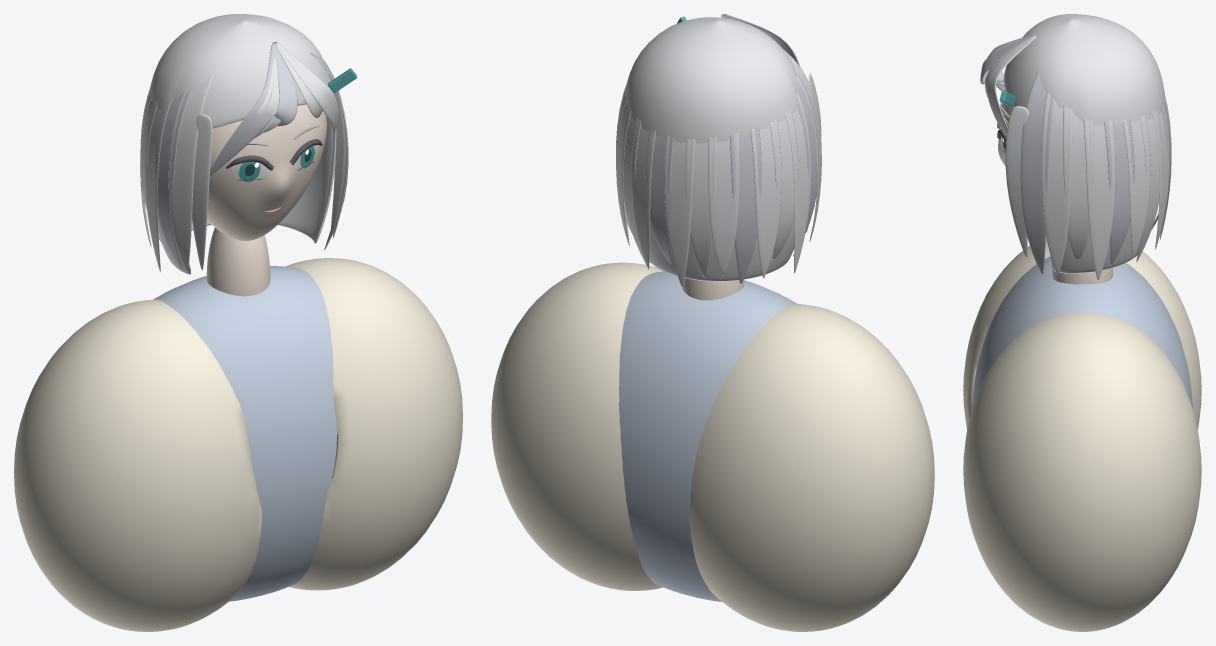
The model's file is siro-style.glb.
The picture shows the model from 3 angles, left to right: view 1: azimuth 30°, elevation 25°; view 2: azimuth 150°, elevation 25°; view 3: azimuth 270°, elevation 25°; orthographic projection. The views are drawn at different scales.
Parts seen in each view (by area): view 1: Cardigan, Cardigan.001, Torso, HairCap, Head, BobLock17, Neck, BobLock16, SideLock, BobLock15, Fringe0, Fringe5 (+4 smaller); view 2: Cardigan, Cardigan.001, Torso, HairCap, BobLock11, BobLock13, BobLock09, BobLock12, BobLock10, BobLock15, BobLock14, BobLock07 (+6 smaller); view 3: Cardigan.001, HairCap, Torso, Cardigan, BobLock00, BobLock01, BobLock03, BobLock02, BobLock04, BobLock05, SideLock.001, BobLock06 (+5 smaller).
Boxes of the visible parts, x1,y1,x2,y2 form: Cardigan: (14,299,261,631); Cardigan.001: (285,258,462,590); Torso: (153,266,336,601); HairCap: (149,14,336,274); Head: (207,104,326,240); BobLock17: (168,75,213,271); Neck: (206,227,270,296); BobLock16: (154,90,191,269); SideLock: (192,114,212,270); BobLock15: (144,98,172,272); Fringe0: (209,42,278,175); Fringe5: (275,42,338,135); Cardigan: (689,303,934,631); Cardigan.001: (491,262,662,590); Torso: (618,271,797,601); HairCap: (624,17,798,281); BobLock11: (708,133,739,275); BobLock13: (750,119,781,278); BobLock09: (664,135,695,287); BobLock12: (729,127,761,284); BobLock10: (685,136,717,277); BobLock15: (785,91,811,273); BobLock14: (769,109,798,258); BobLock07: (631,117,655,269); Cardigan.001: (963,313,1201,631); HairCap: (1003,14,1165,273); Torso: (972,256,1192,408); Cardigan: (963,237,1201,429); BobLock00: (1020,71,1054,274); BobLock01: (1041,92,1072,274); BobLock03: (1083,117,1115,280); BobLock02: (1063,106,1093,259); BobLock04: (1104,119,1134,265); BobLock05: (1123,115,1150,257); SideLock.001: (1005,106,1028,257); BobLock06: (1136,110,1162,262).
Size of the model in its own units: 0.84 by 1.12 by 0.43.
